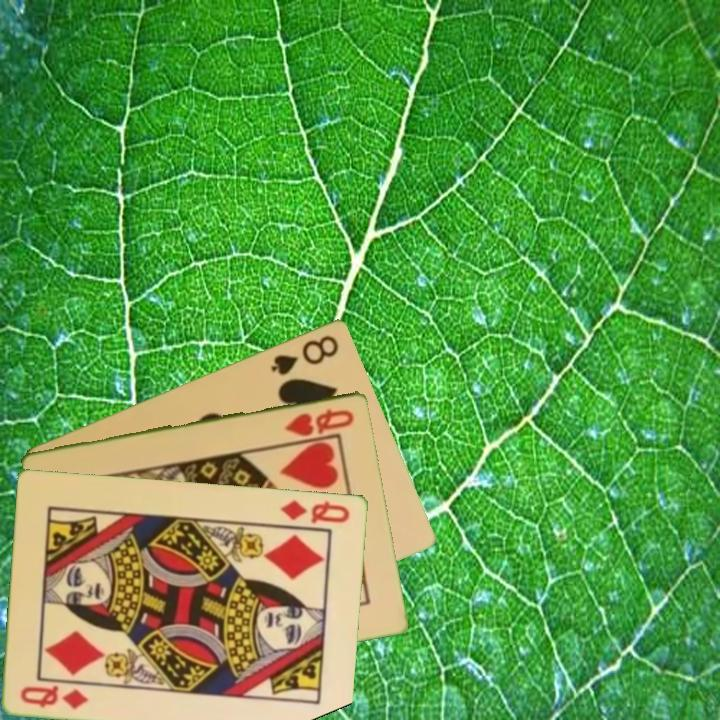8s: (267, 331, 342, 378)
Qd: (17, 681, 91, 712), (277, 496, 353, 526)
Qh: (281, 405, 357, 439)
